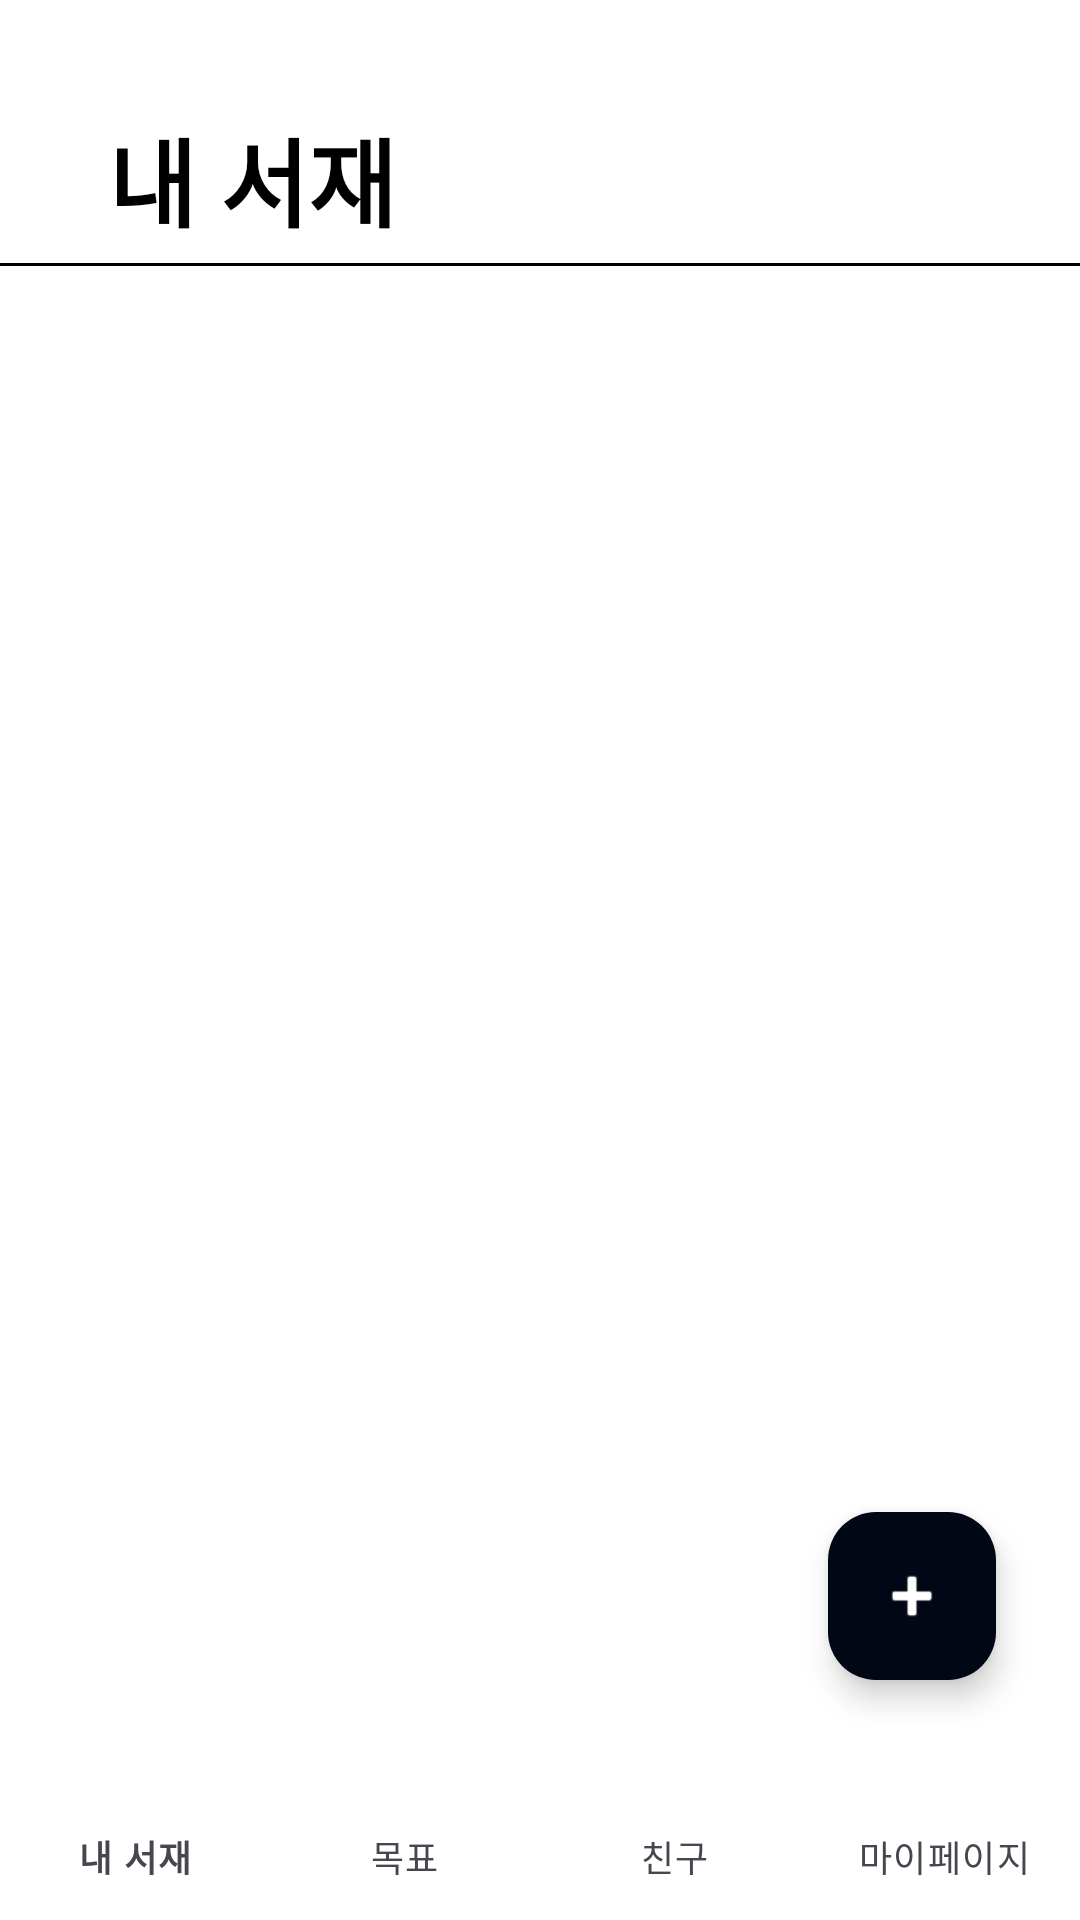

Where icons sit on this 1080 × 1920 app screen, as [x1, y1, x2, y2]:
add book in bookshelf: [828, 1512, 996, 1680]
